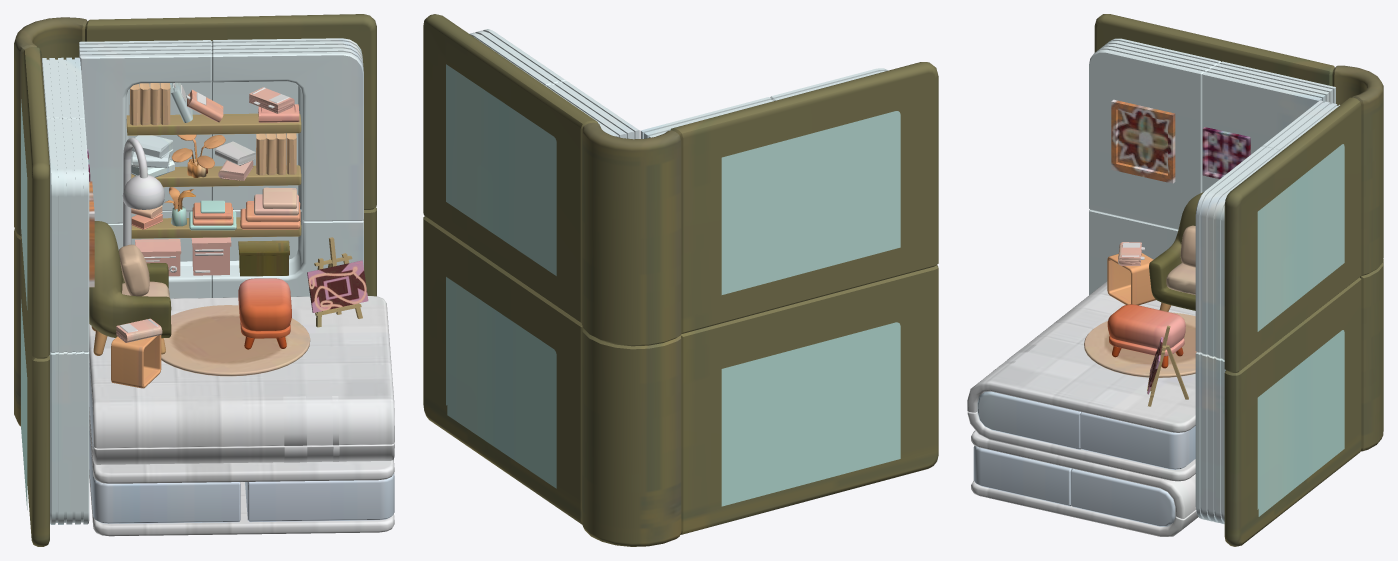
Rendered from level_187.fbx.
3 views of the same model, side by side, from view 1: azimuth 30°, elevation 25°; view 2: azimuth 150°, elevation 25°; view 3: azimuth 270°, elevation 25° (orthographic). The views are drawn at different scales.
Visible parts, largest first — view 1: Cube_L2_4, Cube_L1_6, Cube_L1_9, Cube_L1_12, Cube_L1_1, Cube_L1_5, Cube_L4_29, Cube_L1_13, Cube_L3_5, Cube_L3_3, Cube_L3_2, Cube_L1_4 (+36 smaller); view 2: Cube_L1_5, Cube_L1_4, Cube_L1_1, Cube_L1.001, Cube_L1_2, Cube_L1_3, Cube_L1_9, Cube_L1_6, Cube_L1_10, Cube_L1_12; view 3: Cube_L1_1, Cube_L1.001, Cube_L1_12, Cube_L2_4, Cube_L1_10, Cube_L1_6, Cube_L1_2, Cube_L1_5, Cube_L1_7, Cube_L4_4, Cube_L2_1, Cube_L1_3 (+18 smaller).
Part boxes in pixels (x1=…): Cube_L2_4: x1=89, y1=296, x2=394, y2=448; Cube_L1_6: x1=212, y1=38, x2=363, y2=221; Cube_L1_9: x1=79, y1=40, x2=212, y2=223; Cube_L1_12: x1=46, y1=118, x2=89, y2=352; Cube_L1_1: x1=85, y1=14, x2=376, y2=209; Cube_L1_5: x1=21, y1=46, x2=49, y2=358; Cube_L4_29: x1=161, y1=305, x2=310, y2=376; Cube_L1_13: x1=49, y1=351, x2=89, y2=524; Cube_L3_5: x1=89, y1=435, x2=240, y2=523; Cube_L3_3: x1=245, y1=473, x2=394, y2=522; Cube_L3_2: x1=89, y1=415, x2=394, y2=483; Cube_L1_4: x1=21, y1=252, x2=49, y2=546; Cube_L1_5: x1=670, y1=62, x2=938, y2=333; Cube_L1_4: x1=680, y1=265, x2=938, y2=534; Cube_L1_1: x1=423, y1=14, x2=598, y2=323; Cube_L1.001: x1=423, y1=216, x2=582, y2=524; Cube_L1_2: x1=582, y1=122, x2=681, y2=346; Cube_L1_3: x1=582, y1=327, x2=681, y2=546; Cube_L1_9: x1=547, y1=80, x2=639, y2=139; Cube_L1_6: x1=469, y1=29, x2=565, y2=86; Cube_L1_10: x1=640, y1=97, x2=773, y2=138; Cube_L1_12: x1=770, y1=68, x2=888, y2=100; Cube_L1_1: x1=1224, y1=97, x2=1361, y2=372; Cube_L1.001: x1=1224, y1=277, x2=1361, y2=546; Cube_L1_12: x1=1089, y1=38, x2=1220, y2=229; Cube_L2_4: x1=967, y1=281, x2=1195, y2=432; Cube_L1_10: x1=1202, y1=61, x2=1335, y2=192; Cube_L1_6: x1=1195, y1=146, x2=1281, y2=359; Cube_L1_2: x1=1332, y1=65, x2=1383, y2=276; Cube_L1_5: x1=1094, y1=14, x2=1334, y2=86; Cube_L1_7: x1=1195, y1=352, x2=1225, y2=524; Cube_L4_4: x1=1111, y1=99, x2=1175, y2=183; Cube_L2_1: x1=1080, y1=412, x2=1195, y2=469; Cube_L1_3: x1=1360, y1=259, x2=1383, y2=451.
Size of the model in its own units: 25.94 by 23 by 24.41.
